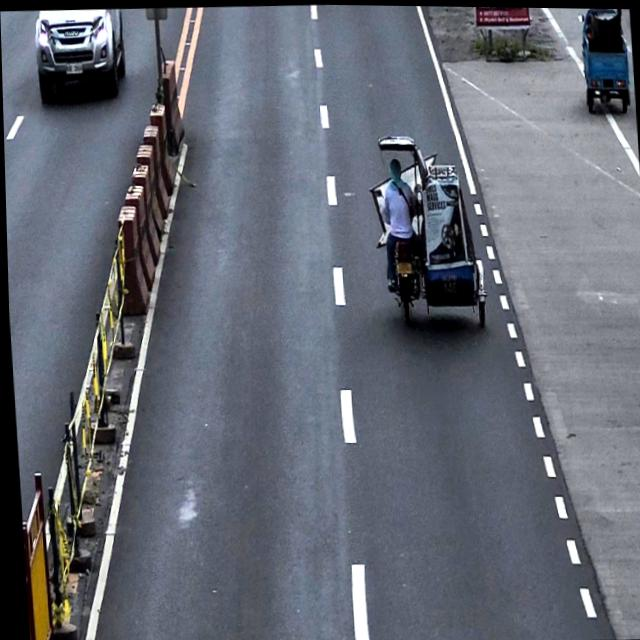Car: (32, 7, 126, 103)
License-Plate: (64, 60, 83, 74), (394, 259, 410, 273)
Tricycle: (363, 129, 486, 330)
